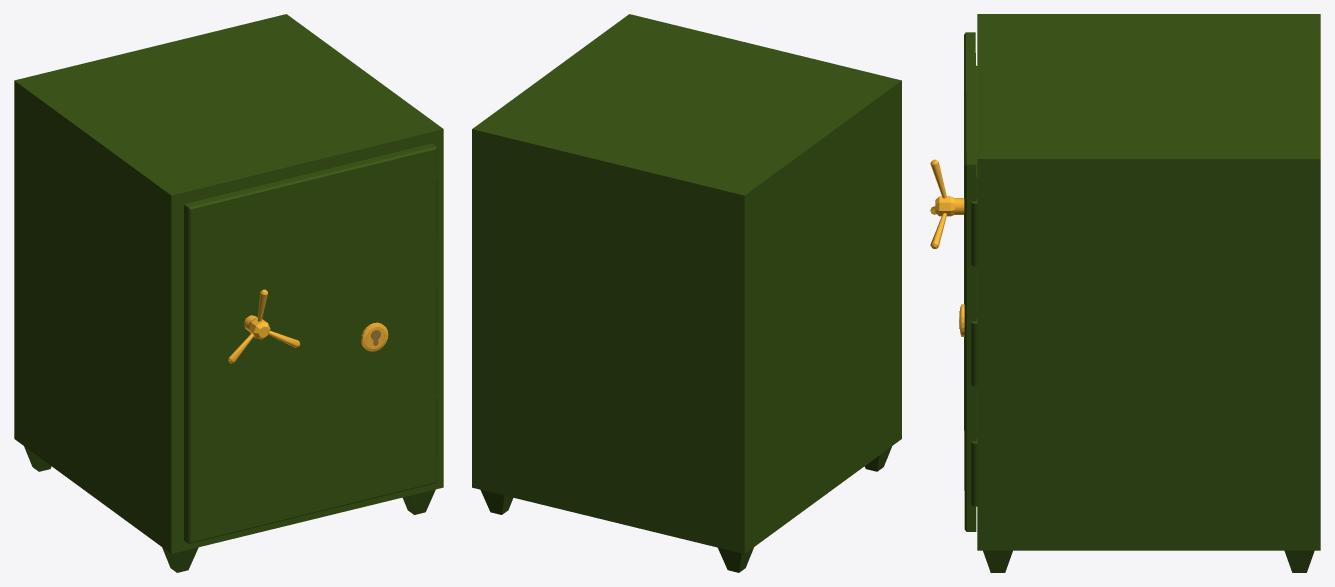
Rendered from safe.fbx.
3 renders of one model, left to right at view 1: azimuth 30°, elevation 25°; view 2: azimuth 150°, elevation 25°; view 3: azimuth 270°, elevation 25°, orthographic. The views are drawn at different scales.
Parts seen in each view (by area): view 1: safe, key1, lock2; view 2: safe; view 3: safe, key1.
Boxes of the visible parts, x1,y1,x2,y2 form: safe: (14,14,443,572); key1: (228,289,300,363); lock2: (361,322,388,351); safe: (472,14,901,572); safe: (964,14,1320,572); key1: (930,159,964,248).
Bounding box in the file's own units: 1.02 × 1.37 × 1.15.
